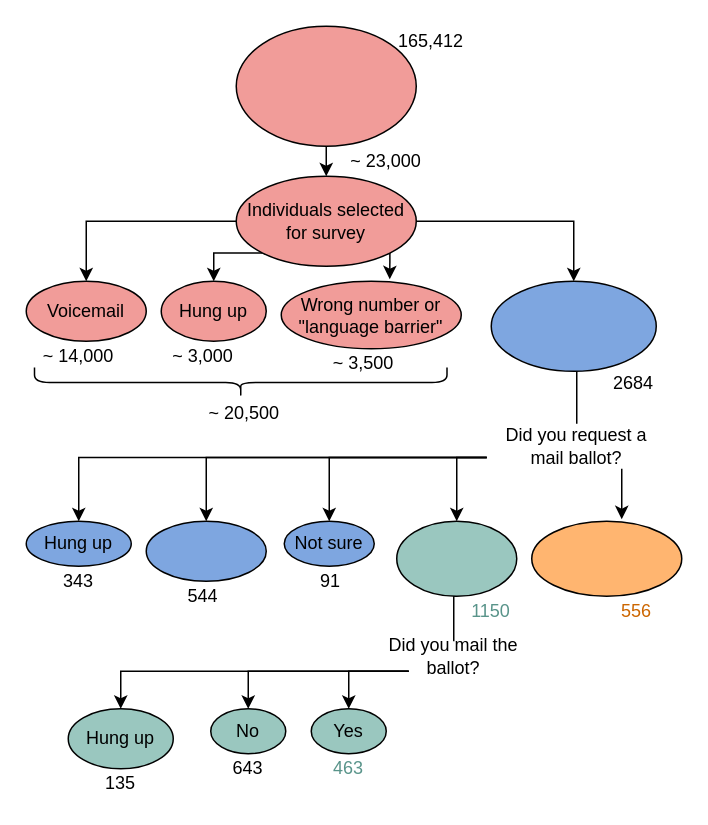
Image size: 708x825. Some labels were removed from this diagram. Each missing label, with the centre of its shape:
"Confirmed they were intended caller" goes at (573,325).
"Did not request ballot" goes at (606,558).
"Republican mail ballots requested but not (yet) counted" goes at (325,85).
"Requested ballot" goes at (456,558).
"Voted in person" goes at (205,550).
